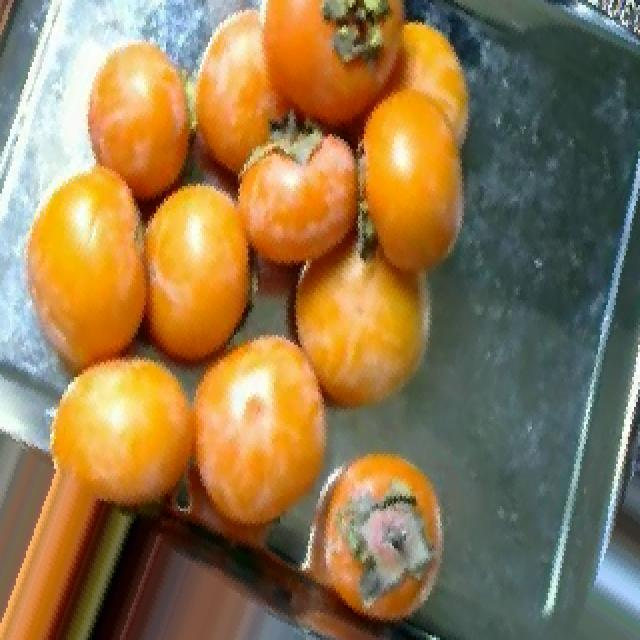Fruit: (64, 10, 218, 228)
